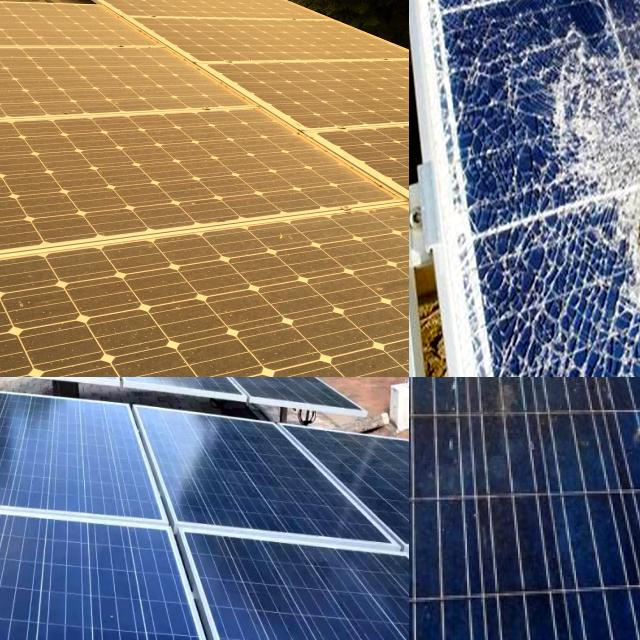bird: (409, 377, 547, 439), (438, 377, 502, 408), (409, 377, 445, 409), (409, 377, 436, 401), (525, 377, 544, 403), (409, 377, 430, 399), (409, 377, 426, 397), (409, 377, 422, 398)
crack: (124, 389, 378, 569), (160, 515, 409, 640), (0, 384, 180, 540), (0, 522, 194, 640)
hotspot: (546, 22, 640, 323), (510, 361, 640, 377)
